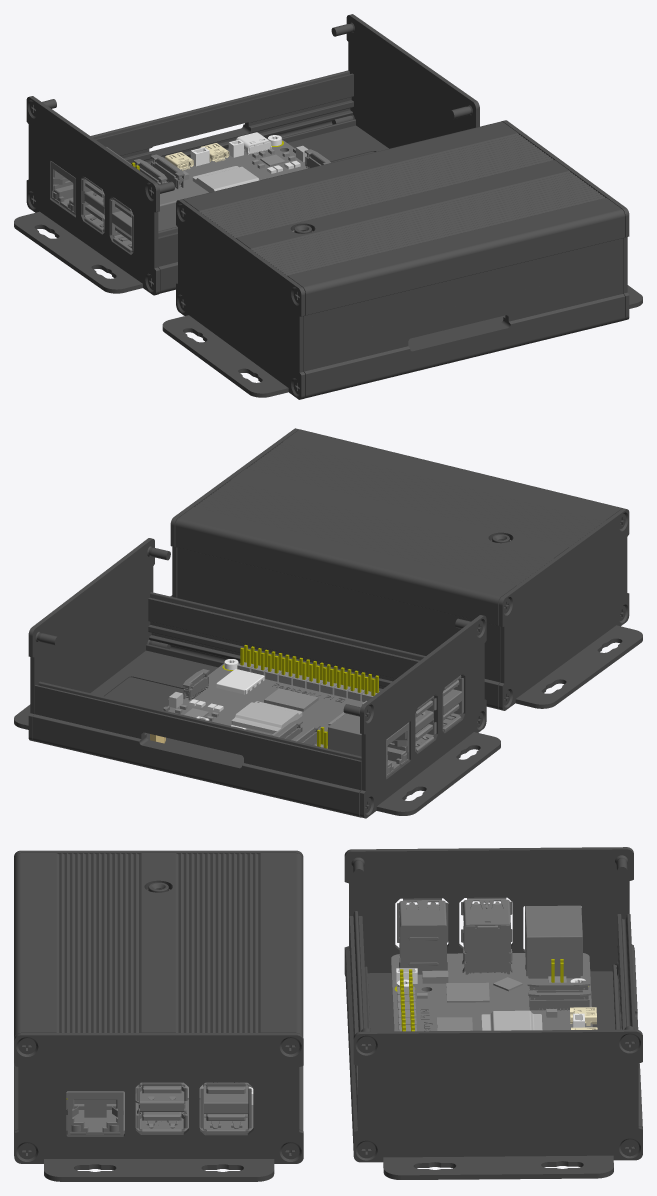
The picture shows the model from 3 angles, top to bottom: view 1: azimuth 30°, elevation 25°; view 2: azimuth 150°, elevation 25°; view 3: azimuth 270°, elevation 25°; orthographic projection. The views are drawn at different scales.
Parts seen in each view (by area): view 1: SC-FT-A (×3), SC-FT-B (×4), raspberry_pi_5 (×6); view 2: SC-FT-A (×3), SC-FT-B (×4), raspberry_pi_5 (×9); view 3: SC-FT-B (×4), SC-FT-A (×3), raspberry_pi_5 (×14).
Part boxes in pixels (<box>): SC-FT-A (×3): <box>90,70,624,398</box>; SC-FT-B (×4): <box>14,14,642,399</box>; raspberry_pi_5 (×6): <box>51,139,307,252</box>; SC-FT-A (×3): <box>33,429,622,817</box>; SC-FT-B (×4): <box>14,428,642,818</box>; raspberry_pi_5 (×9): <box>168,662,463,777</box>; SC-FT-B (×4): <box>14,847,642,1181</box>; SC-FT-A (×3): <box>14,853,642,1155</box>; raspberry_pi_5 (×14): <box>66,897,592,1134</box>.
Bounding box in the file's own units: 0.1495 × 0.0401 × 0.1775.
